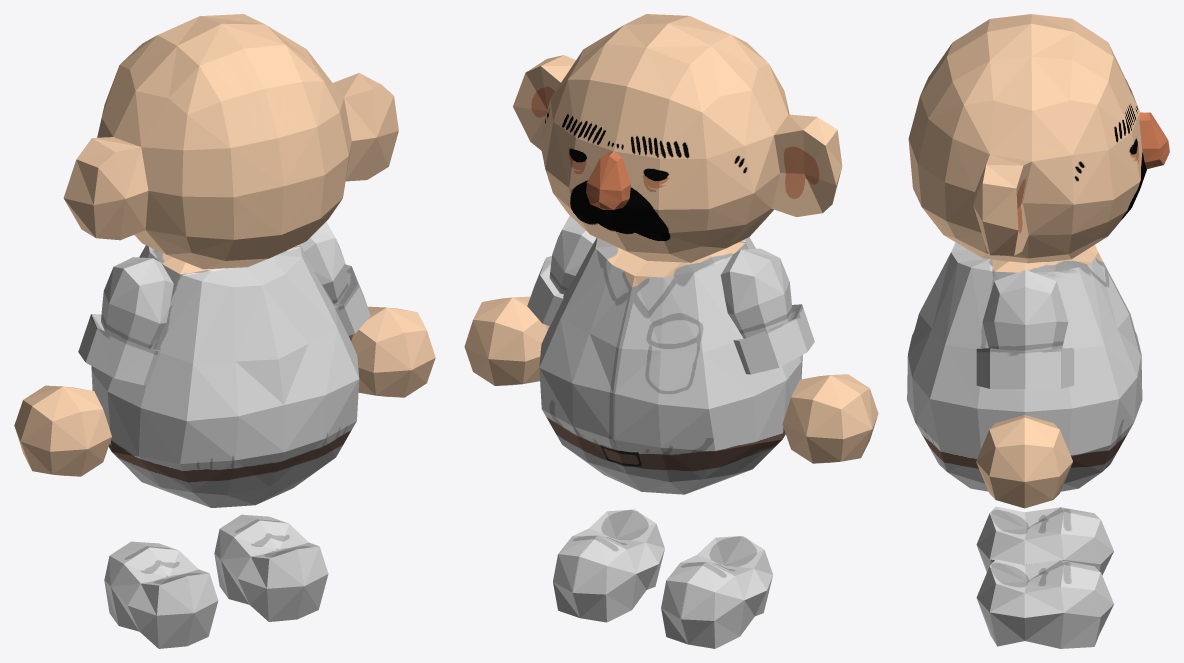
File: Modelo_jugador2.obj
3 views of the same model, side by side, from view 1: azimuth 30°, elevation 25°; view 2: azimuth 150°, elevation 25°; view 3: azimuth 270°, elevation 25° (orthographic).
Visible parts, largest first — view 1: Zapatos; view 2: Zapatos; view 3: Zapatos.
Part boxes in pixels (<box>): Zapatos: <box>14,14,435,648</box>; Zapatos: <box>464,14,878,648</box>; Zapatos: <box>907,14,1169,648</box>.
Size of the model in its own units: 2.99 by 4.16 by 1.69.
1 material, 1 textured.
